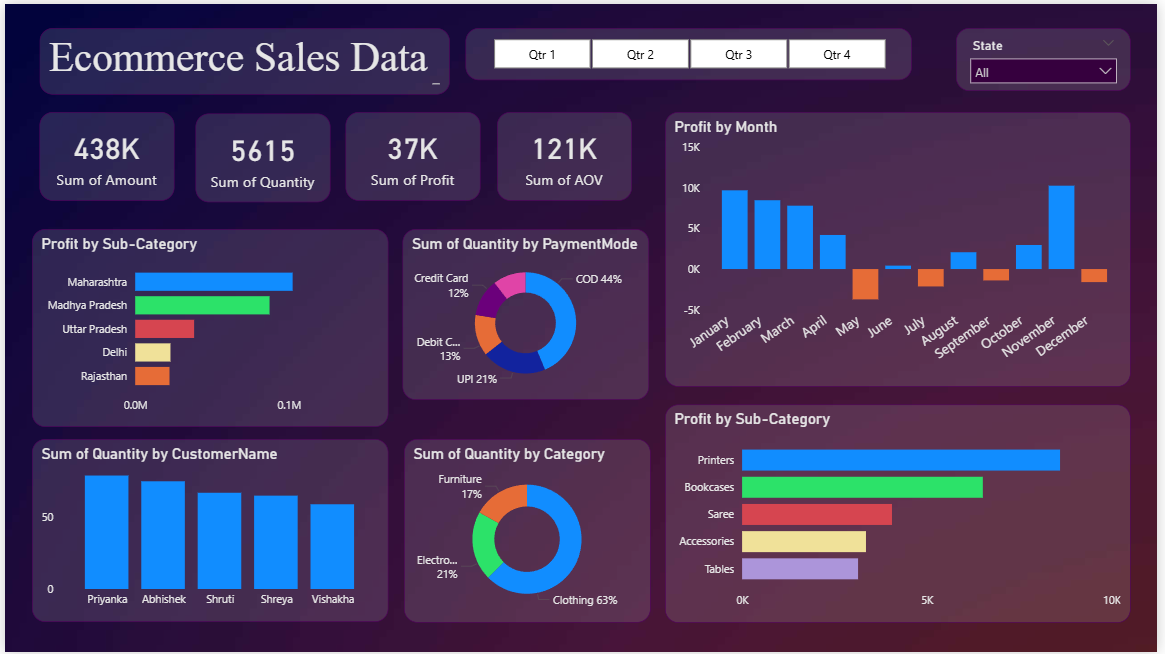

Layout of this report page (visuals, bound fields, positions):
{"tool":"powerbi","page":{"name":"Page 1","canvas":[1280,720],"ordinal":0},"visuals":[{"type":"textbox","title":"Ecommerce Sales Data","box":[38,26,456,74],"z":0},{"type":"lineStackedColumnComboChart","title":"Profit by Month","fields":{"Category":["Orders.Order Date.Variation.Date Hierarchy.Month"],"Y":["Sum(Details.Profit)"]},"box":[732.5,120,517.5,305],"z":1000},{"type":"barChart","title":"Profit by Sub-Category","fields":{"Category":["Details.Sub-Category"],"Y":["Sum(Details.Profit)"]},"box":[732.5,445,517.5,242.5],"z":2000},{"type":"donutChart","fields":{"Category":["Details.Category"],"Y":["Sum(Details.Quantity)"]},"box":[444,484,274,204],"z":3000},{"type":"donutChart","fields":{"Y":["Sum(Details.Quantity)"],"Category":["Details.PaymentMode"]},"box":[442,250,274,190],"z":4000},{"type":"card","fields":{"Values":["Sum(Details.AOV)"]},"box":[547.1,120,150,98.6],"z":5000},{"type":"card","fields":{"Values":["Sum(Details.Profit)"]},"box":[378.6,120,150,98.6],"z":6000},{"type":"card","fields":{"Values":["Sum(Details.Quantity)"]},"box":[211.4,121.4,150,98.6],"z":7000},{"type":"card","fields":{"Values":["Sum(Details.Amount)"]},"box":[38.6,120,150,98.6],"z":8000},{"type":"barChart","title":"Profit by Sub-Category","fields":{"Category":["Orders.State"],"Y":["Sum(Details.Amount)"]},"box":[30,250,396,220],"z":9000},{"type":"slicer","fields":{"Values":["Orders.Order Date.Variation.Date Hierarchy.Quarter"]},"box":[512,26,496,58],"z":10000},{"type":"columnChart","fields":{"Category":["Orders.CustomerName"],"Y":["Sum(Details.Quantity)"]},"box":[30,484,396,203],"z":11000},{"type":"slicer","fields":{"Values":["Orders.State"]},"box":[1056,26,194,70],"z":12000}]}

Visuals, with their boxes in screenshot pixels (x1, y1, x2, y2), scaled from the page's 1280x720 canvas onto the 1165x654 screenshot:
"Ecommerce Sales Data" textbox: locate(35, 24, 450, 91)
"Profit by Month" lineStackedColumnComboChart: locate(667, 109, 1138, 386)
"Profit by Sub-Category" barChart: locate(667, 404, 1138, 624)
donutChart - Details.Category x Sum(Details.Quantity): locate(404, 440, 653, 625)
donutChart - Sum(Details.Quantity) x Details.PaymentMode: locate(402, 227, 652, 400)
card - Sum(Details.AOV): locate(498, 109, 634, 199)
card - Sum(Details.Profit): locate(345, 109, 481, 199)
card - Sum(Details.Quantity): locate(192, 110, 329, 200)
card - Sum(Details.Amount): locate(35, 109, 172, 199)
"Profit by Sub-Category" barChart: locate(27, 227, 388, 427)
slicer - Orders.Order Date.Variation.Date Hierarchy.Quarter: locate(466, 24, 917, 76)
columnChart - Orders.CustomerName x Sum(Details.Quantity): locate(27, 440, 388, 624)
slicer - Orders.State: locate(961, 24, 1138, 87)
